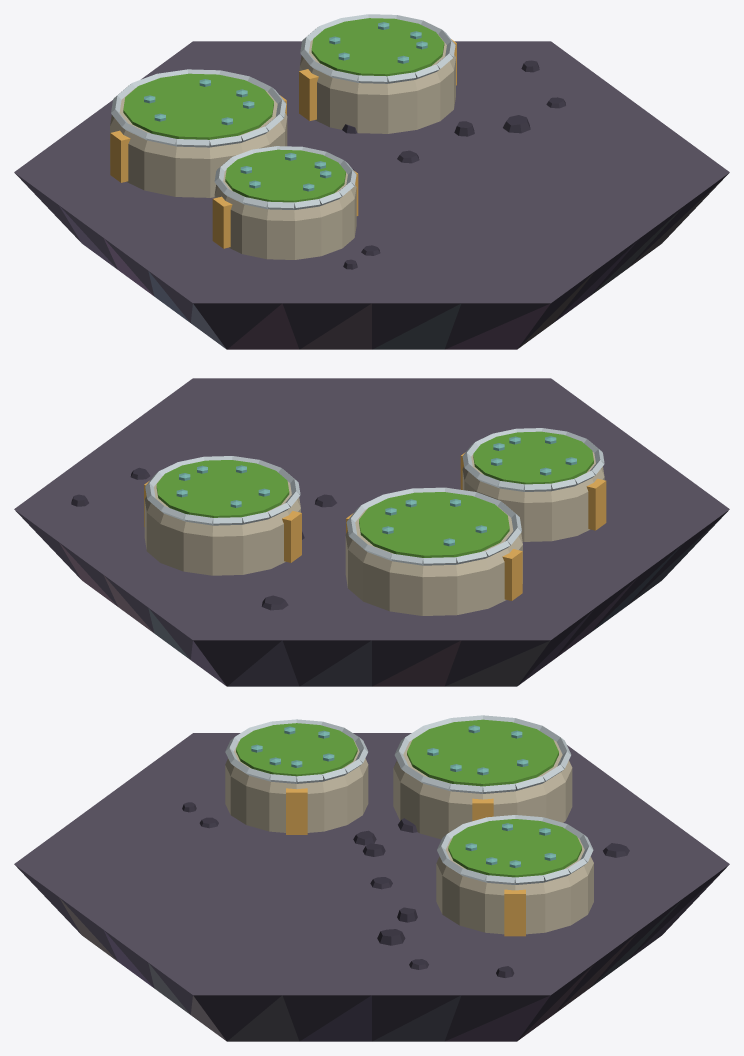
File: space_tile_fleece.glb
3 renders of one model, top to bottom at view 1: azimuth 30°, elevation 25°; view 2: azimuth 150°, elevation 25°; view 3: azimuth 270°, elevation 25°, orthographic.
Visible parts, largest first — view 1: FixedDetails, BrassTrim; view 2: FixedDetails, BrassTrim; view 3: FixedDetails, BrassTrim.
Boxes of the visible parts, <box> form: FixedDetails: <box>14,18,729,349</box>; BrassTrim: <box>110,14,456,248</box>; FixedDetails: <box>14,378,729,686</box>; BrassTrim: <box>144,428,606,600</box>; FixedDetails: <box>14,719,729,1041</box>; BrassTrim: <box>225,715,593,936</box>.
Size of the model in its own units: 1.73 by 0.402 by 2.
